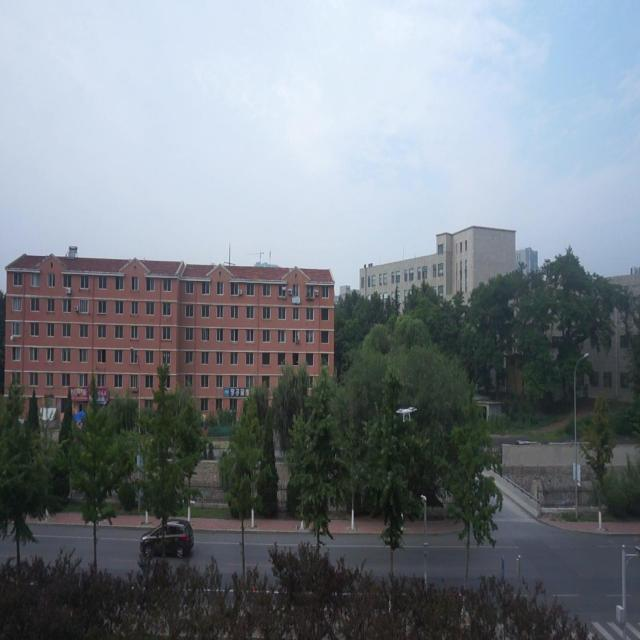UAV: (396, 406, 417, 422)
